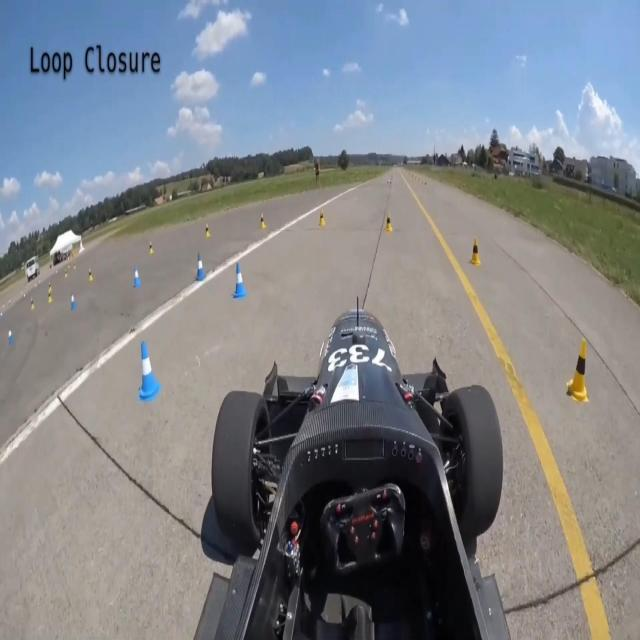blue_cone: (234, 264, 246, 298), (196, 252, 206, 280), (133, 264, 141, 288)
yellow_cone: (567, 336, 590, 403), (468, 237, 482, 266), (384, 212, 393, 232), (319, 208, 326, 228)
